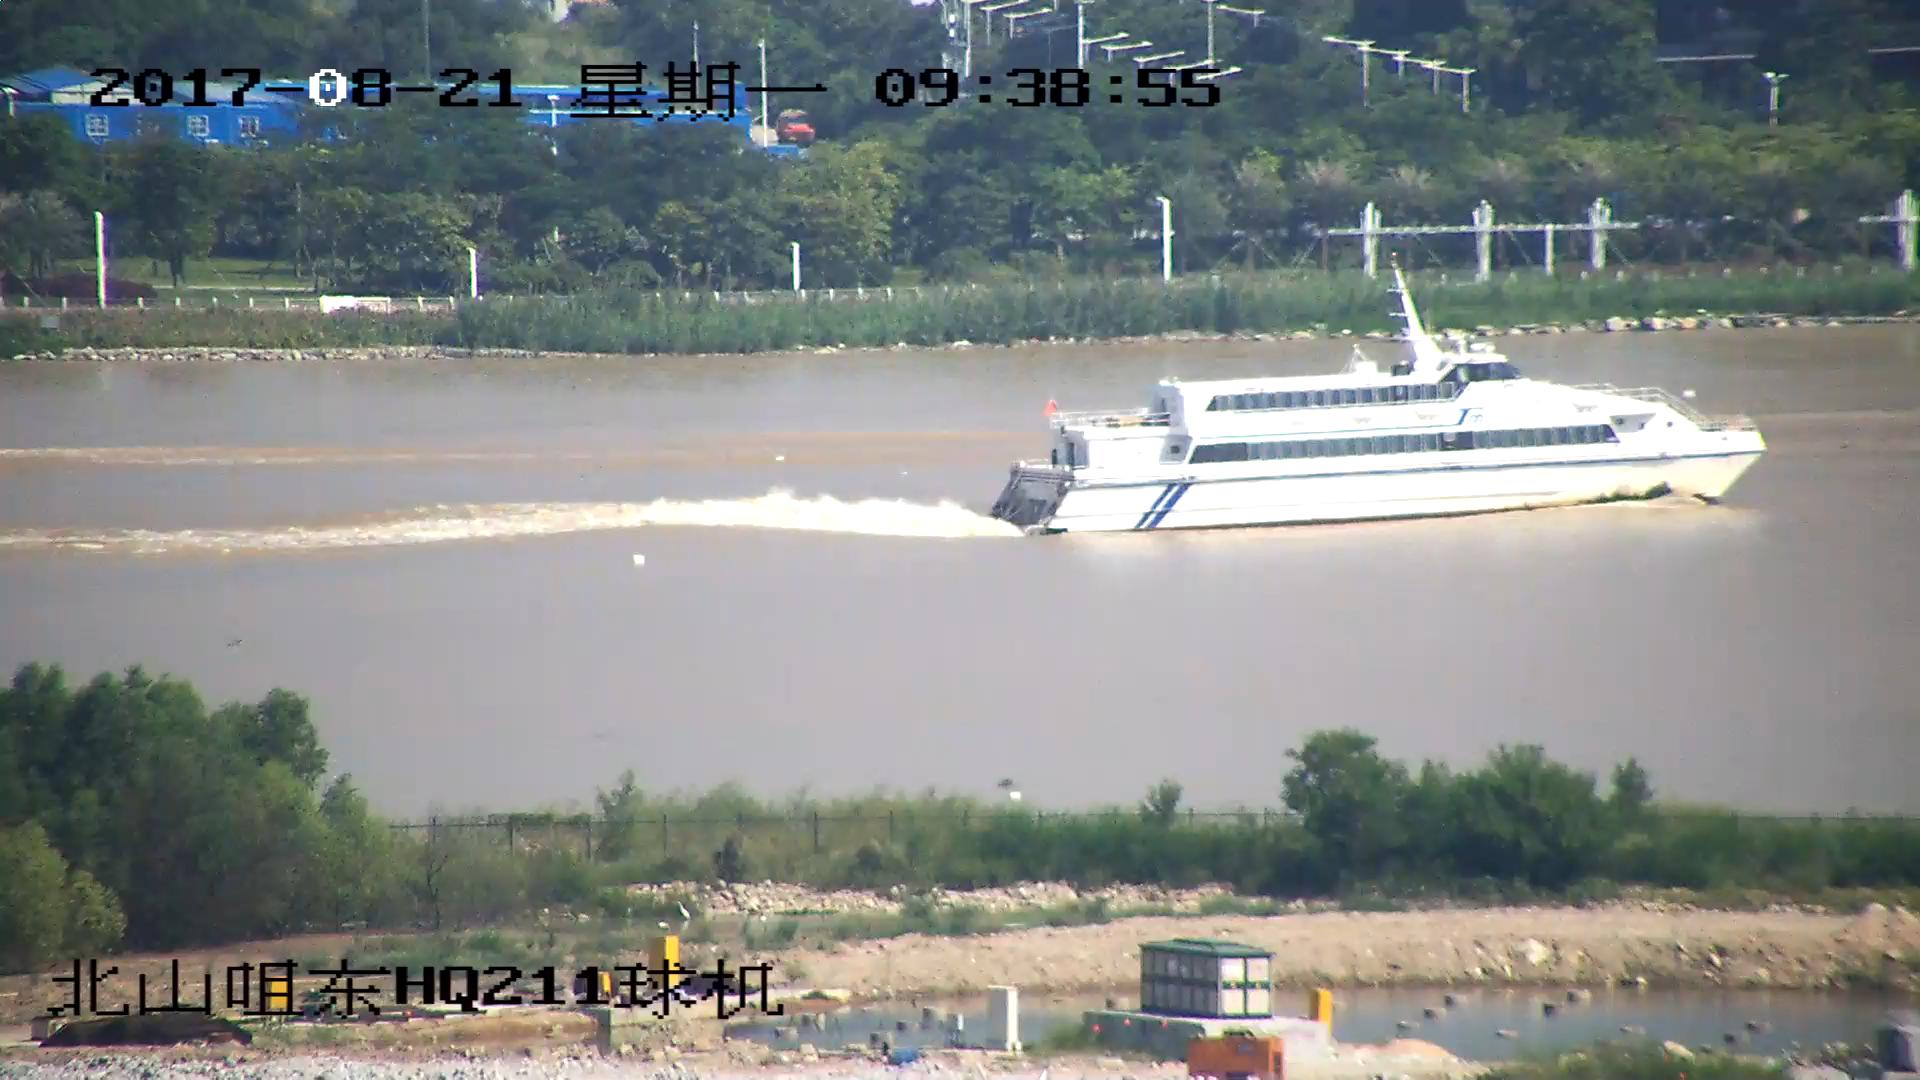passenger ship: (990, 275, 1766, 533)
